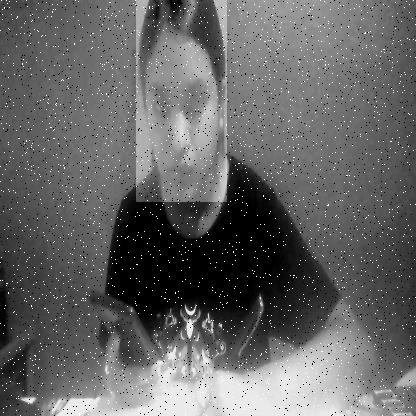Normal: (136, 0, 227, 202)
